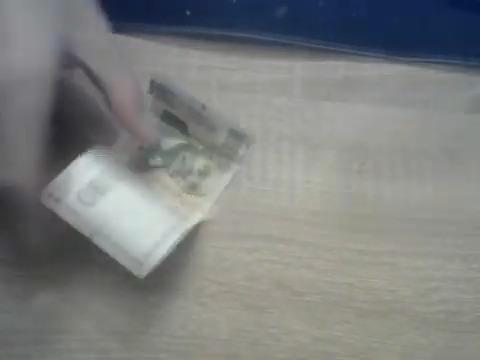10leva: (39, 80, 250, 282)
